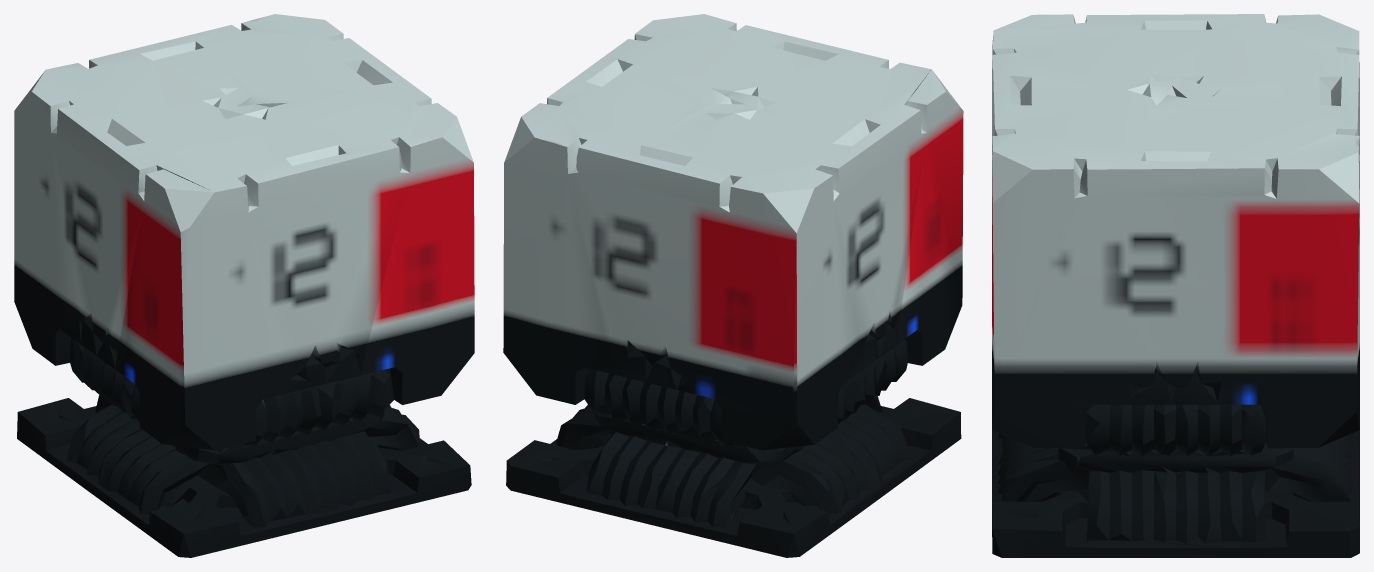
File: pawn-far.glb
3 renders of one model, left to right at view 1: azimuth 30°, elevation 25°; view 2: azimuth 150°, elevation 25°; view 3: azimuth 270°, elevation 25°, orthographic. The views are drawn at different scales.
Visible parts, largest first — view 1: pawn; view 2: pawn; view 3: pawn.
Part boxes in pixels (x1,y1,x2,y2): pawn: (14, 14, 474, 557); pawn: (503, 14, 963, 557); pawn: (992, 14, 1359, 557).
Size of the model in its own units: 50.03 by 58.55 by 50.02.
1 material, 1 textured.
